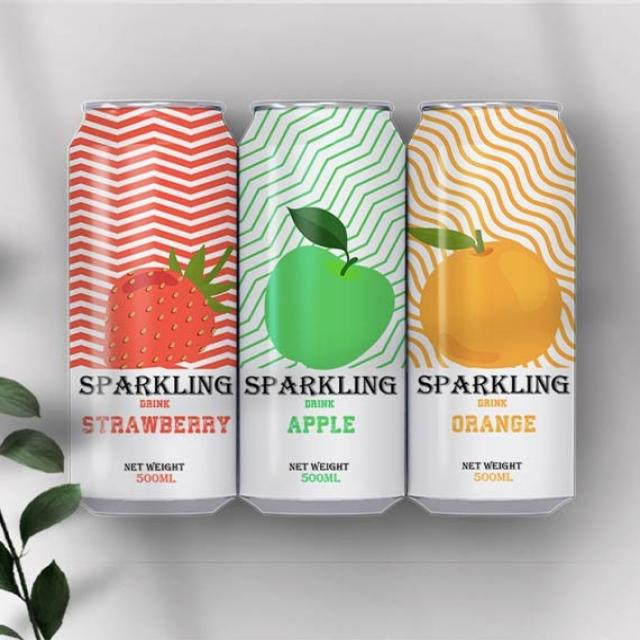Cans: (64, 96, 240, 522), (406, 99, 580, 518), (237, 98, 406, 520)
